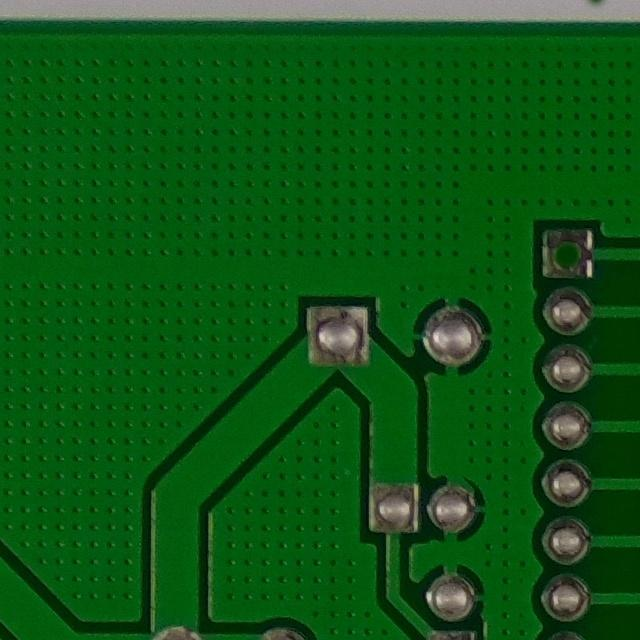missing_hole: (539, 225, 593, 278)
